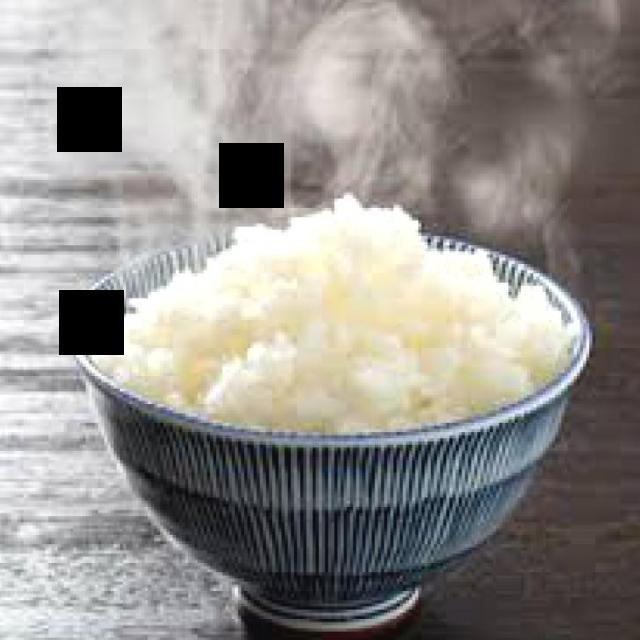rice: (90, 194, 572, 434)
